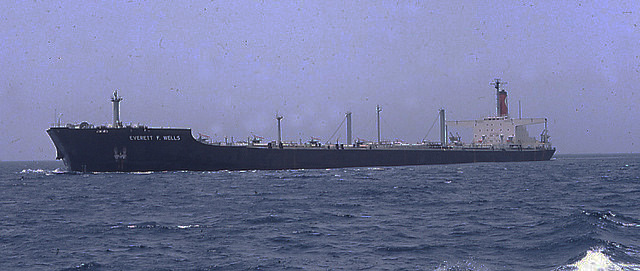tanker: (43, 78, 564, 164)
